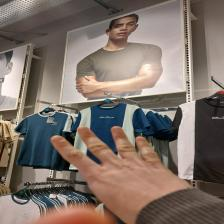four: (48, 126, 182, 208)
